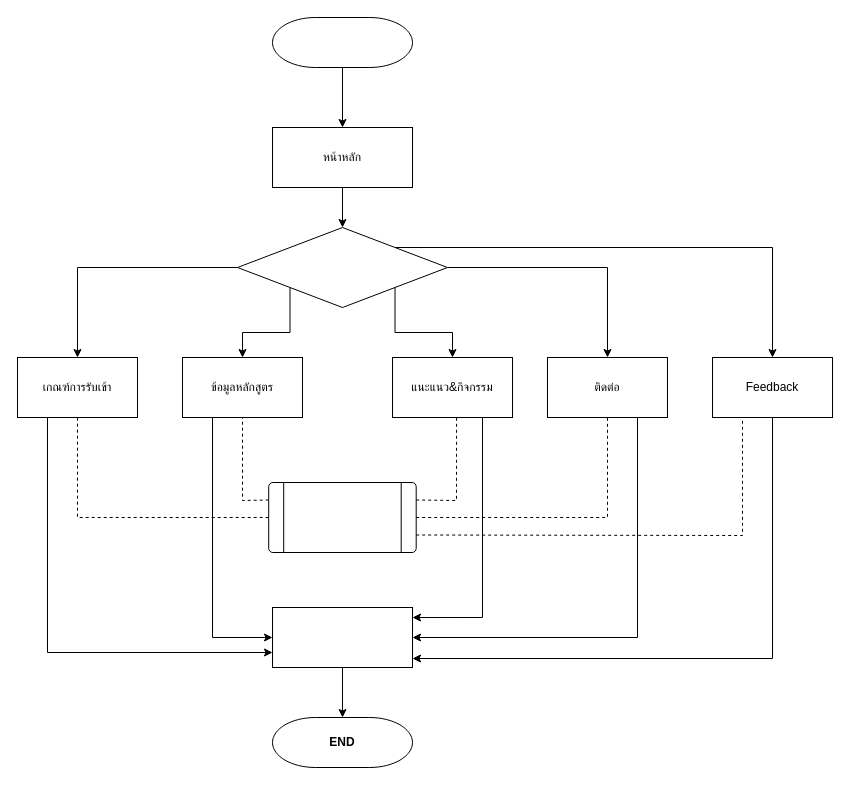
Image size: 850x785. Some labels were removed from this diagram. Here are the shapes that lost their labels. From the top down, the centre of each, then its label:
At [342,42]: "START".
At [342,267]: "เลือกเมนูใน Navigation bar".
At [342,517]: "AI Chatbot".
At [342,637]: "กลับสู่หน้าหลัก".
